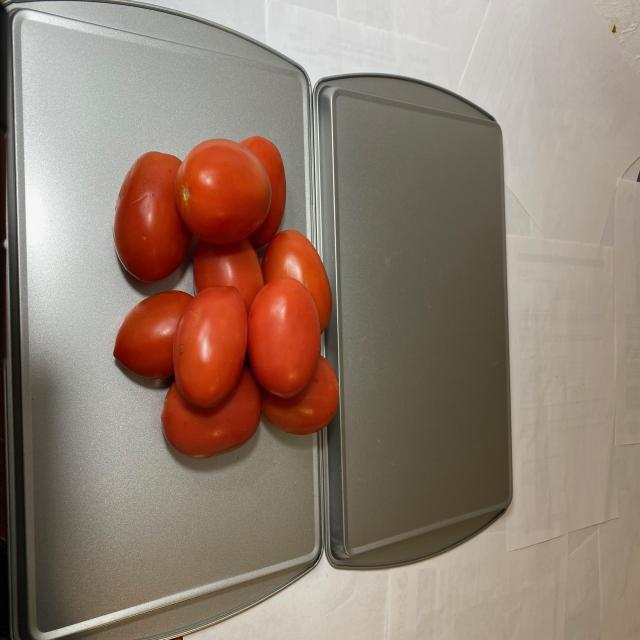tomato: (107, 133, 342, 468)
